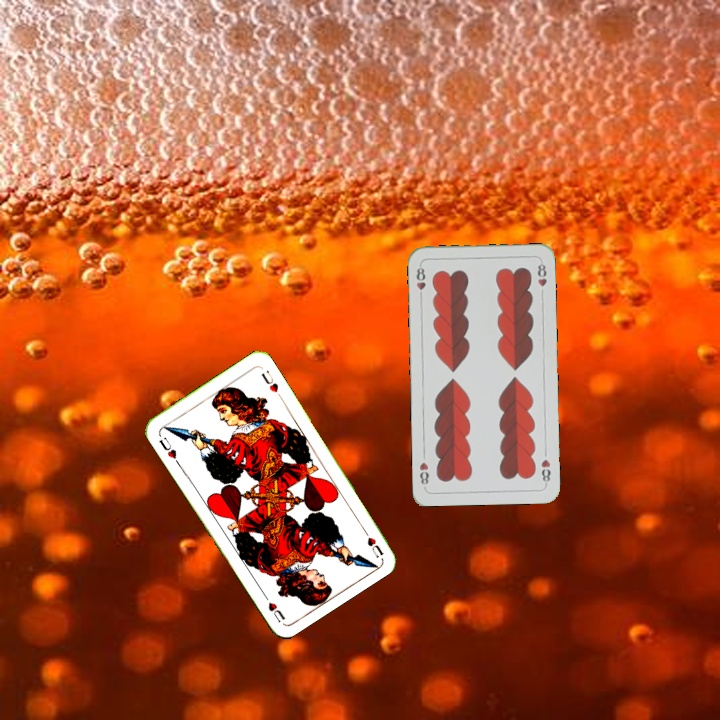H8: (412, 261, 428, 301), (537, 455, 553, 487)
HU: (358, 523, 386, 561), (154, 433, 182, 466)
